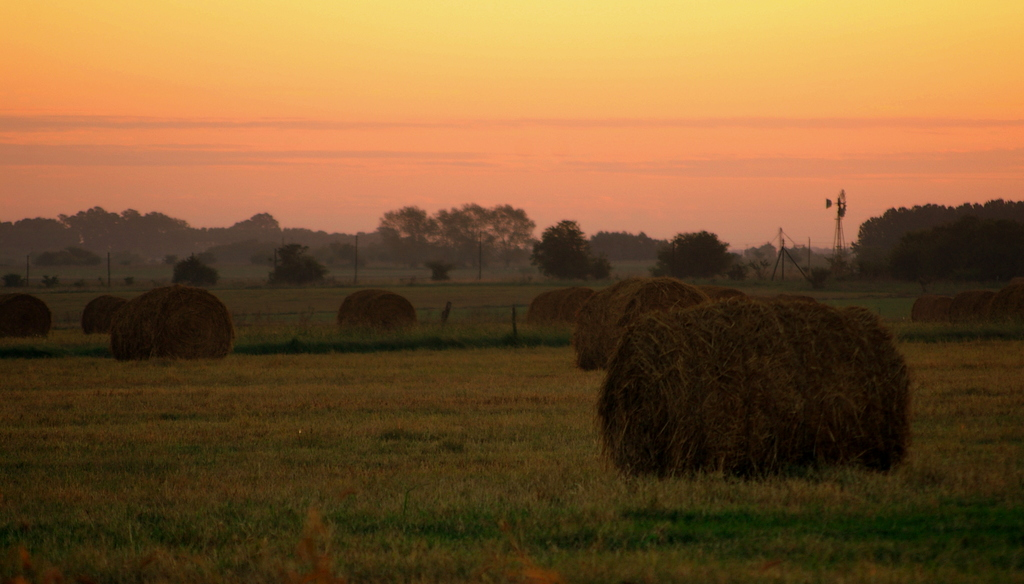Tree: (0, 202, 375, 256), (852, 197, 1024, 281), (375, 204, 535, 269), (651, 231, 752, 282), (536, 223, 612, 278), (590, 227, 670, 260)
